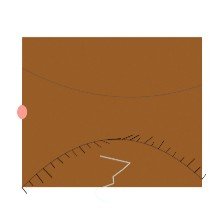foreign_body_visible: (98, 93, 139, 126)
